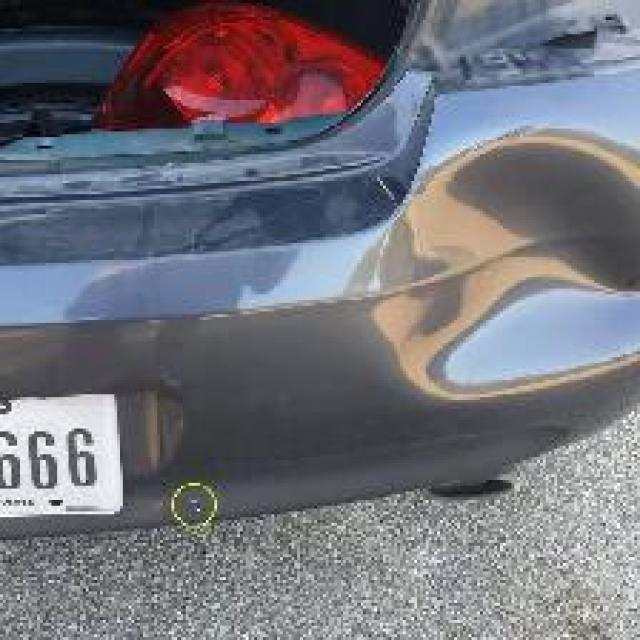bumper_dent_moderate: (351, 131, 637, 386)
